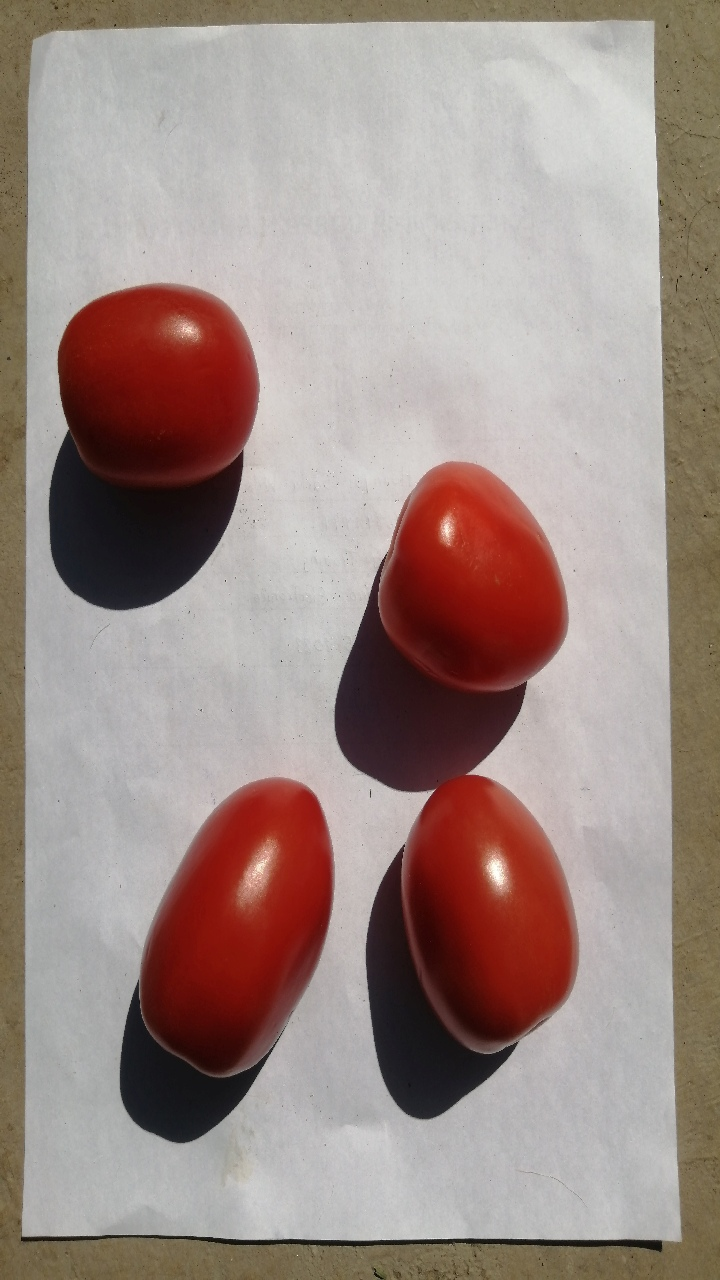tomateRojo: (108, 757, 341, 1099), (380, 755, 612, 1083), (361, 431, 592, 706), (48, 251, 284, 515)
